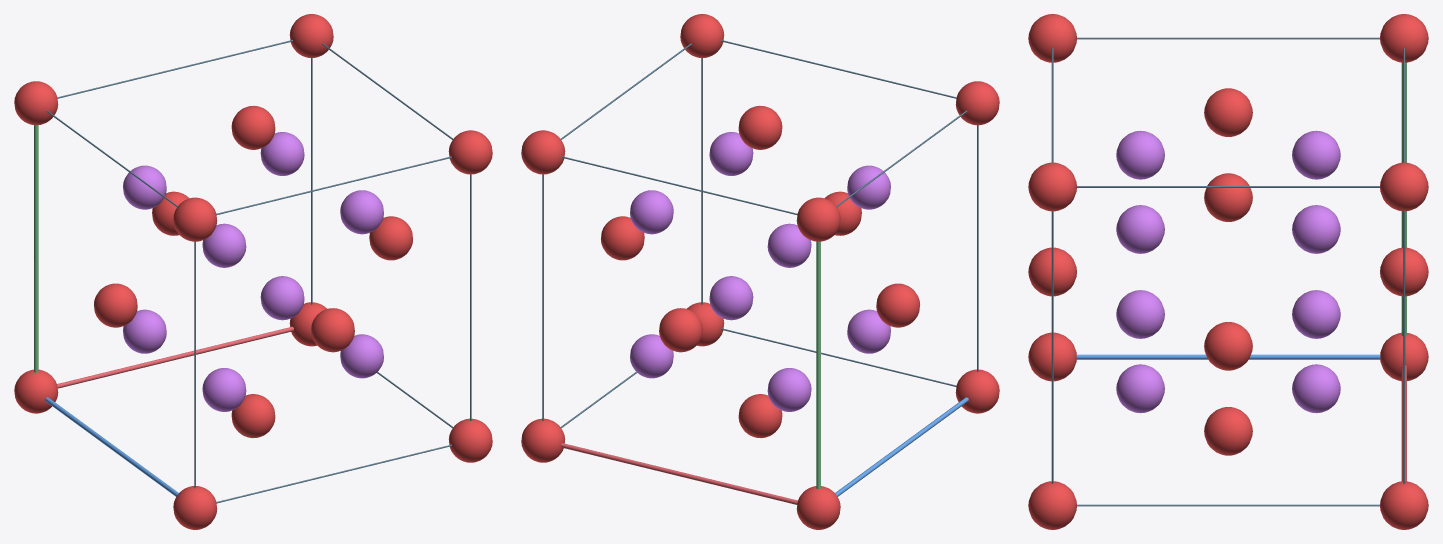
The model's file is chat-lithium-oxide.glb.
3 renders of one model, left to right at view 1: azimuth 30°, elevation 25°; view 2: azimuth 150°, elevation 25°; view 3: azimuth 270°, elevation 25°, orthographic. The views are drawn at different scales.
Parts seen in each view (by area): view 1: O1 · O · 1 (×14), Li1 · Li · 1 (×8), Ô mạng và các trục a, b, c; view 2: O1 · O · 1 (×14), Li1 · Li · 1 (×8), Ô mạng và các trục a, b, c; view 3: O1 · O · 1 (×14), Li1 · Li · 1 (×8), Ô mạng và các trục a, b, c.
Boxes of the visible parts, <box> form: O1 · O · 1 (×14): <box>14,14,492,529</box>; Li1 · Li · 1 (×8): <box>123,132,383,411</box>; Ô mạng và các trục a, b, c: <box>34,40,471,503</box>; O1 · O · 1 (×14): <box>521,14,999,529</box>; Li1 · Li · 1 (×8): <box>630,132,890,411</box>; Ô mạng và các trục a, b, c: <box>542,40,978,504</box>; O1 · O · 1 (×14): <box>1028,14,1428,529</box>; Li1 · Li · 1 (×8): <box>1116,130,1340,413</box>; Ô mạng và các trục a, b, c: <box>1051,37,1406,506</box>.
Size of the model in its own units: 5.25 by 5.25 by 5.25.
